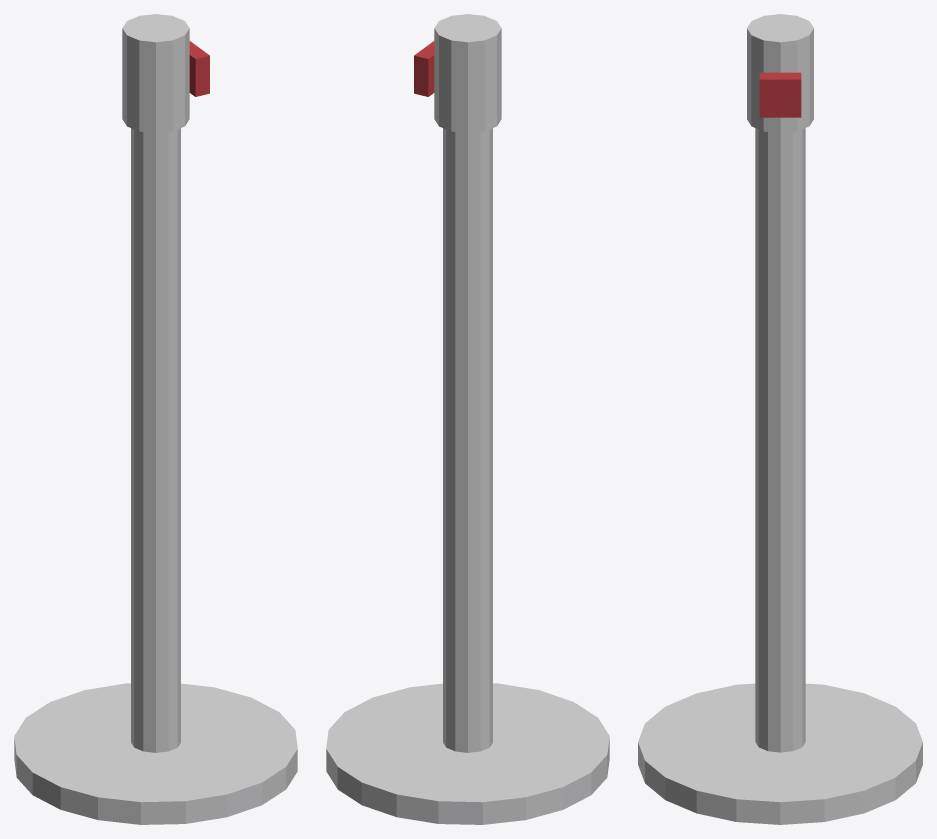
Rendered from queue_post.glb.
3 views of the same model, side by side, from view 1: azimuth 30°, elevation 25°; view 2: azimuth 150°, elevation 25°; view 3: azimuth 270°, elevation 25° (orthographic).
Visible parts, largest first — view 1: queue_post; view 2: queue_post; view 3: queue_post.
Part boxes in pixels (<box>): queue_post: <box>14,14,297,824</box>; queue_post: <box>326,14,609,824</box>; queue_post: <box>638,14,922,824</box>.
Size of the model in its own units: 0.34 by 0.97 by 0.34.
